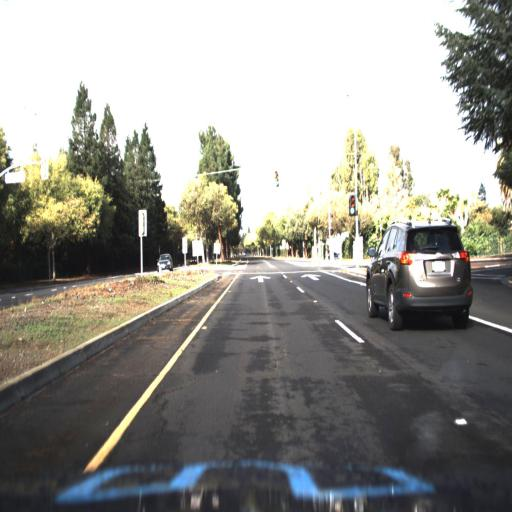car: (365, 219, 474, 334), (156, 250, 174, 274)
trafficLight-Green: (271, 171, 281, 189), (349, 195, 357, 217), (273, 171, 280, 191)
